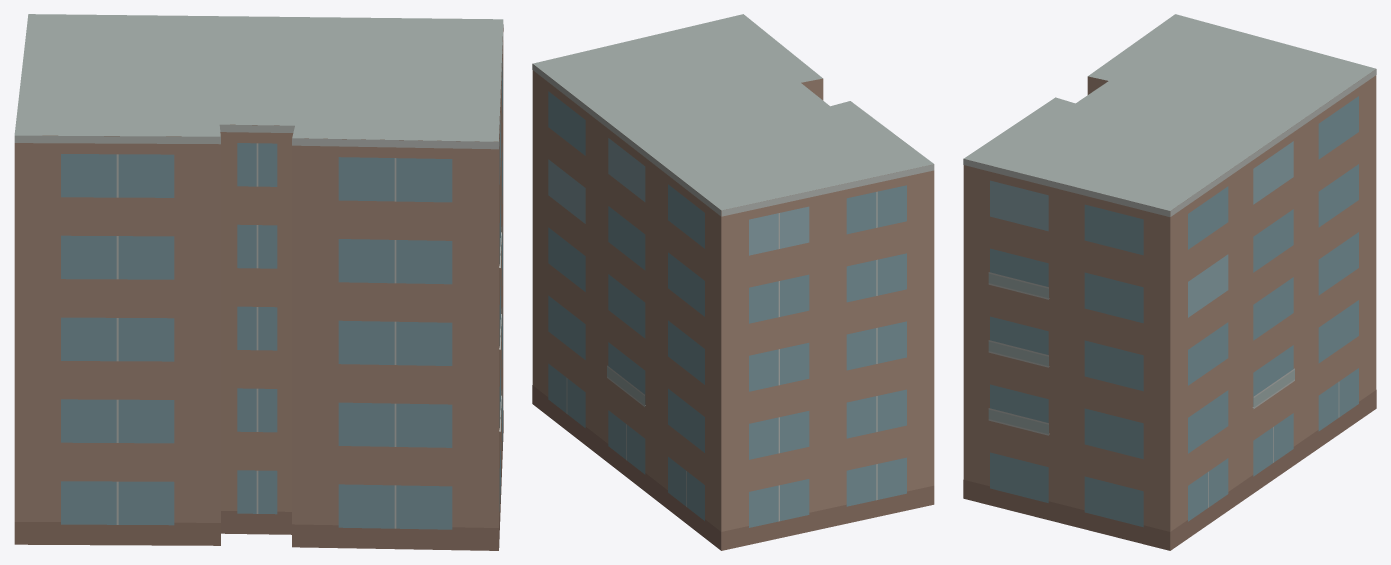
Rendered from survey-upis-32674165.glb.
3 renders of one model, left to right at view 1: azimuth 30°, elevation 25°; view 2: azimuth 150°, elevation 25°; view 3: azimuth 270°, elevation 25°, orthographic. The views are drawn at different scales.
Parts seen in each view (by area): view 1: survey-upis-32674165.tmp; view 2: survey-upis-32674165.tmp; view 3: survey-upis-32674165.tmp.
Boxes of the visible parts, bbox=[...] form: survey-upis-32674165.tmp: bbox=[14, 14, 503, 550]; survey-upis-32674165.tmp: bbox=[532, 14, 934, 550]; survey-upis-32674165.tmp: bbox=[963, 14, 1376, 550].
Bounding box in the file's own units: 16.54 × 13.3 × 14.66.
